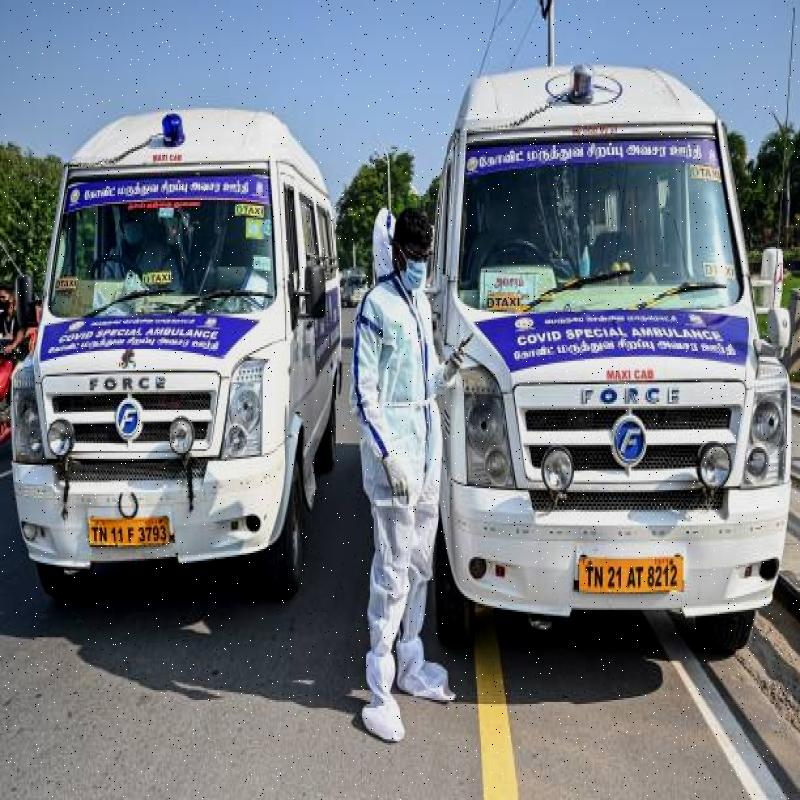ambulance: (434, 41, 793, 657), (5, 73, 339, 628)
